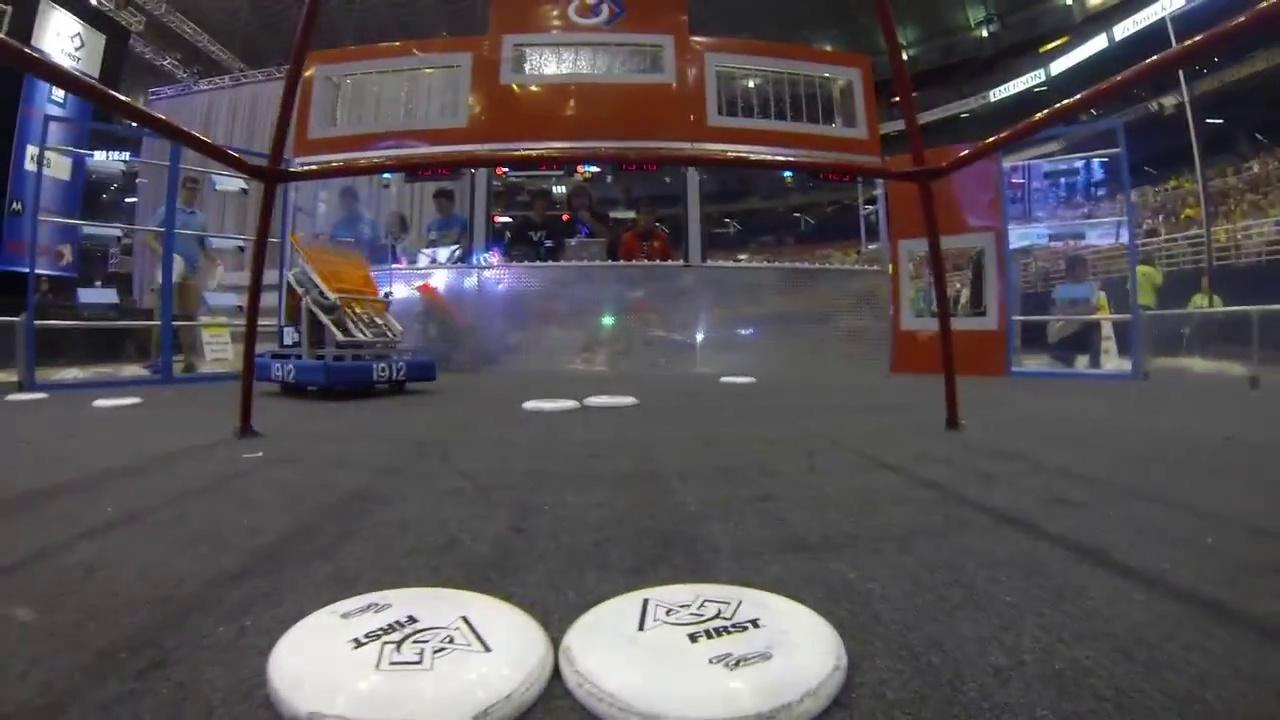robot: (250, 230, 437, 401)
